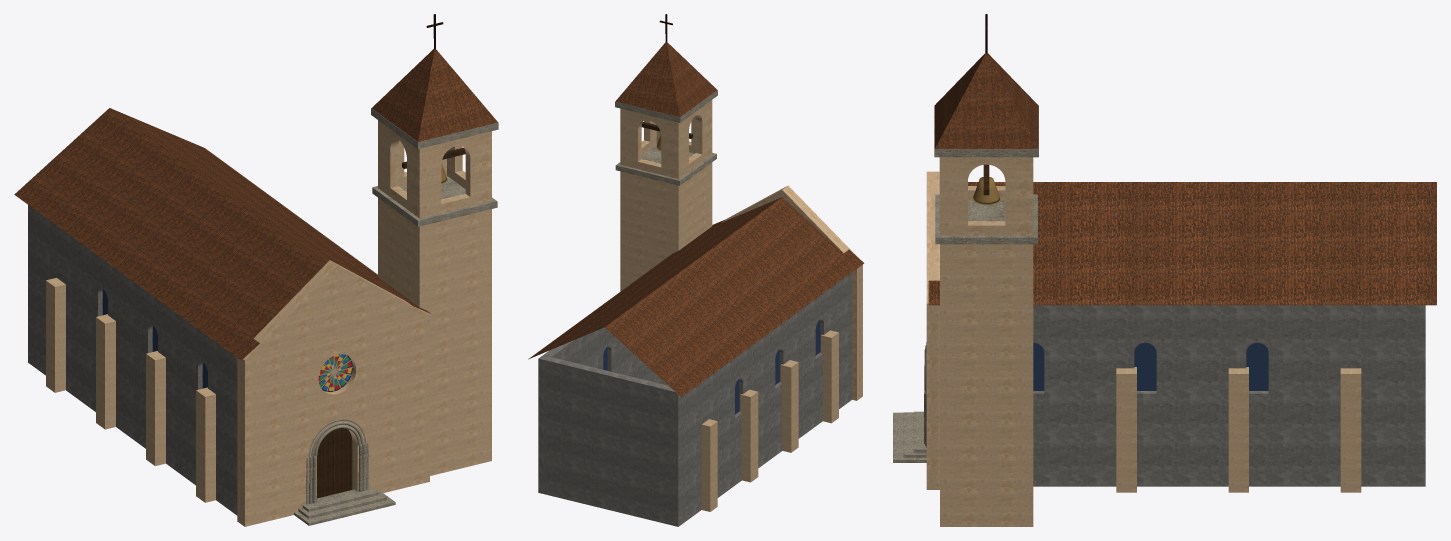
The model's file is iglesia.glb.
3 renders of one model, left to right at view 1: azimuth 30°, elevation 25°; view 2: azimuth 150°, elevation 25°; view 3: azimuth 270°, elevation 25°, orthographic. The views are drawn at different scales.
Bounding box in the file's own units: 18.15 × 29.1 × 29.1.
9 materials, 7 textured.
